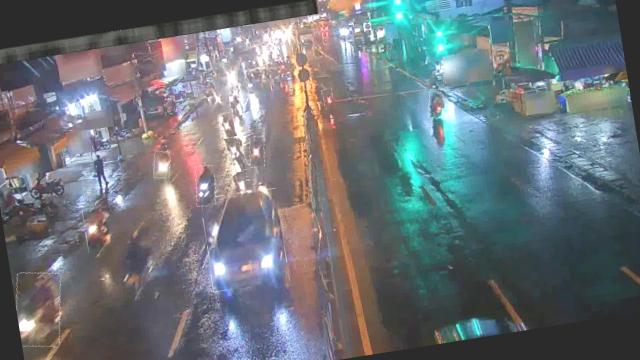Bike: (12, 268, 68, 351), (82, 206, 114, 253), (192, 164, 218, 208), (224, 131, 248, 173), (426, 86, 449, 118), (247, 136, 267, 168), (150, 150, 172, 179), (218, 112, 238, 139), (229, 93, 242, 124), (322, 88, 335, 109)
Car: (200, 186, 291, 292)
